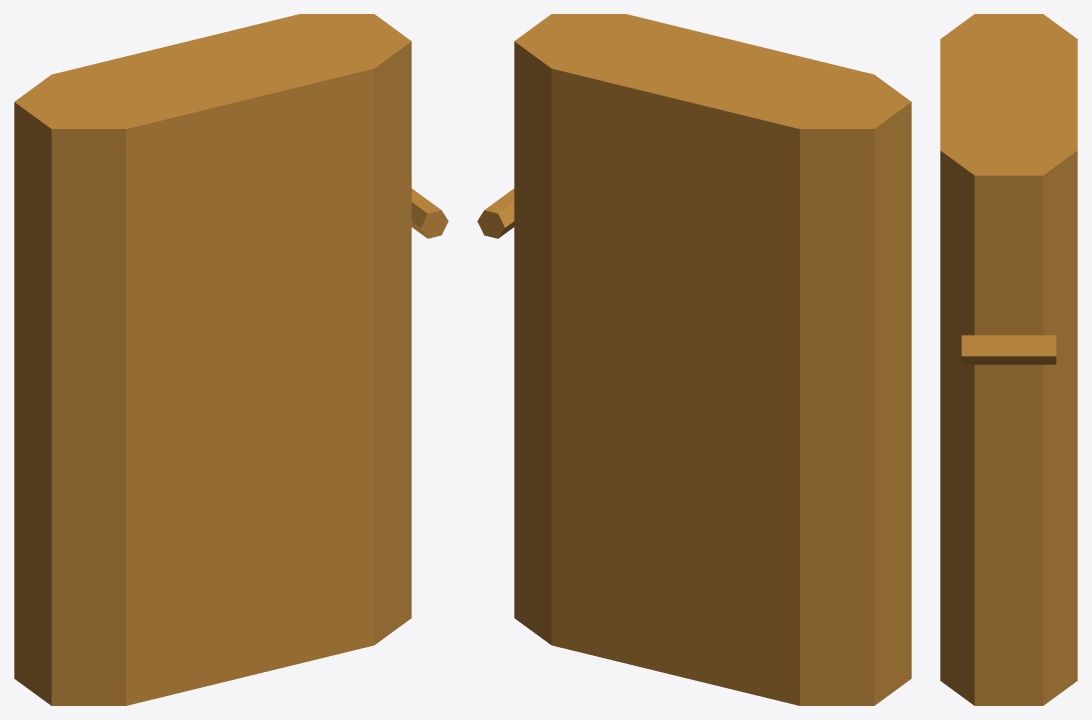
The model's file is SM_Prop_Lighter_01.fbx.
3 renders of one model, left to right at view 1: azimuth 30°, elevation 25°; view 2: azimuth 150°, elevation 25°; view 3: azimuth 270°, elevation 25°, orthographic. The views are drawn at different scales.
Parts seen in each view (by area): view 1: Lighter_Body, Lighter_Lid, Lighter_Hinge; view 2: Lighter_Body, Lighter_Lid, Lighter_Hinge; view 3: Lighter_Body, Lighter_Lid, Lighter_Hinge.
Part boxes in pixels (x1=…): Lighter_Body: x1=14, y1=223, x2=411, y2=705; Lighter_Lid: x1=14, y1=14, x2=411, y2=310; Lighter_Hinge: x1=411, y1=188, x2=448, y2=238; Lighter_Body: x1=514, y1=223, x2=911, y2=705; Lighter_Lid: x1=514, y1=14, x2=911, y2=310; Lighter_Hinge: x1=477, y1=188, x2=514, y2=238; Lighter_Body: x1=940, y1=318, x2=1077, y2=705; Lighter_Lid: x1=940, y1=14, x2=1077, y2=335; Lighter_Hinge: x1=961, y1=335, x2=1056, y2=364.
Bounding box in the file's own units: 0.0393 × 0.0555 × 0.013.
